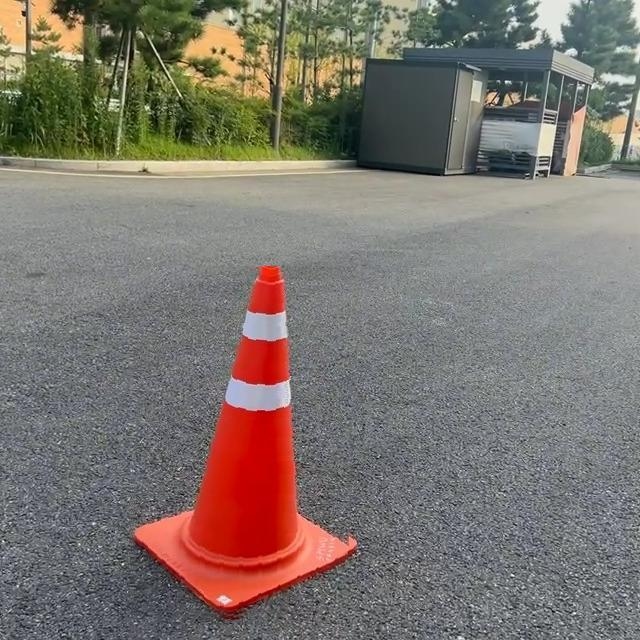fallen_object: (116, 267, 444, 640)
